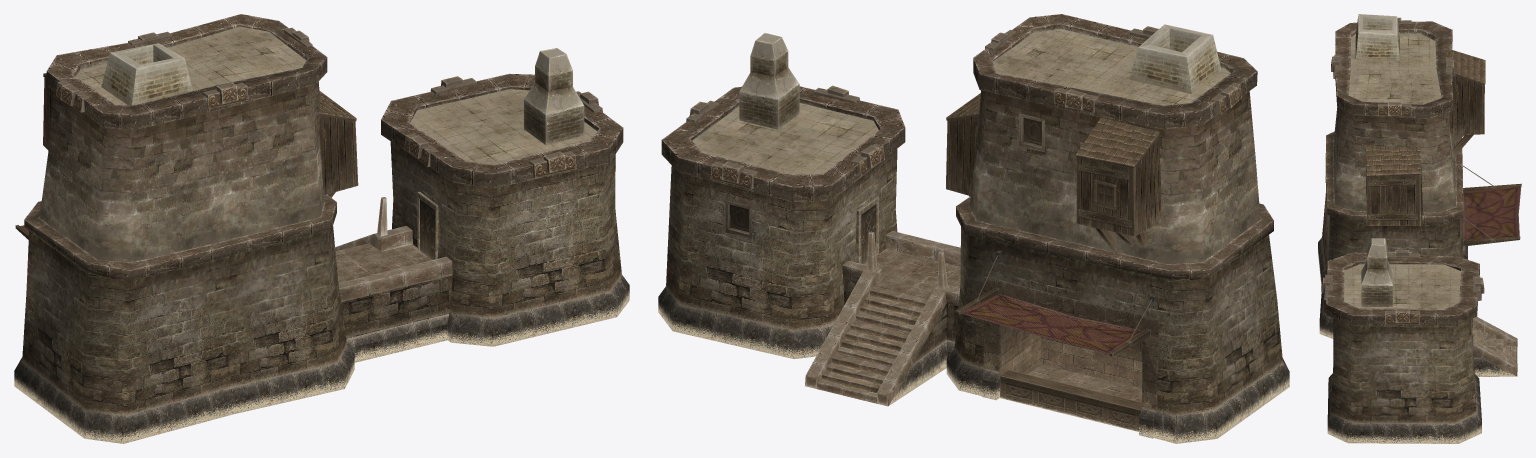
Rendered from OZ_09_sn_T04bldg03A.glb.
The picture shows the model from 3 angles, left to right: view 1: azimuth 30°, elevation 25°; view 2: azimuth 150°, elevation 25°; view 3: azimuth 270°, elevation 25°; orthographic projection. The views are drawn at different scales.
Parts seen in each view (by area): view 1: OM_09_sn_T04bldg03A; view 2: OM_09_sn_T04bldg03A; view 3: OM_09_sn_T04bldg03A.
Part boxes in pixels (x1,y1,x2,y2): OM_09_sn_T04bldg03A: (14, 14, 629, 443); OM_09_sn_T04bldg03A: (658, 14, 1289, 443); OM_09_sn_T04bldg03A: (1318, 14, 1521, 443).
Bounding box in the file's own units: 25.56 × 15.28 × 11.07.
10 materials, 10 textured.
